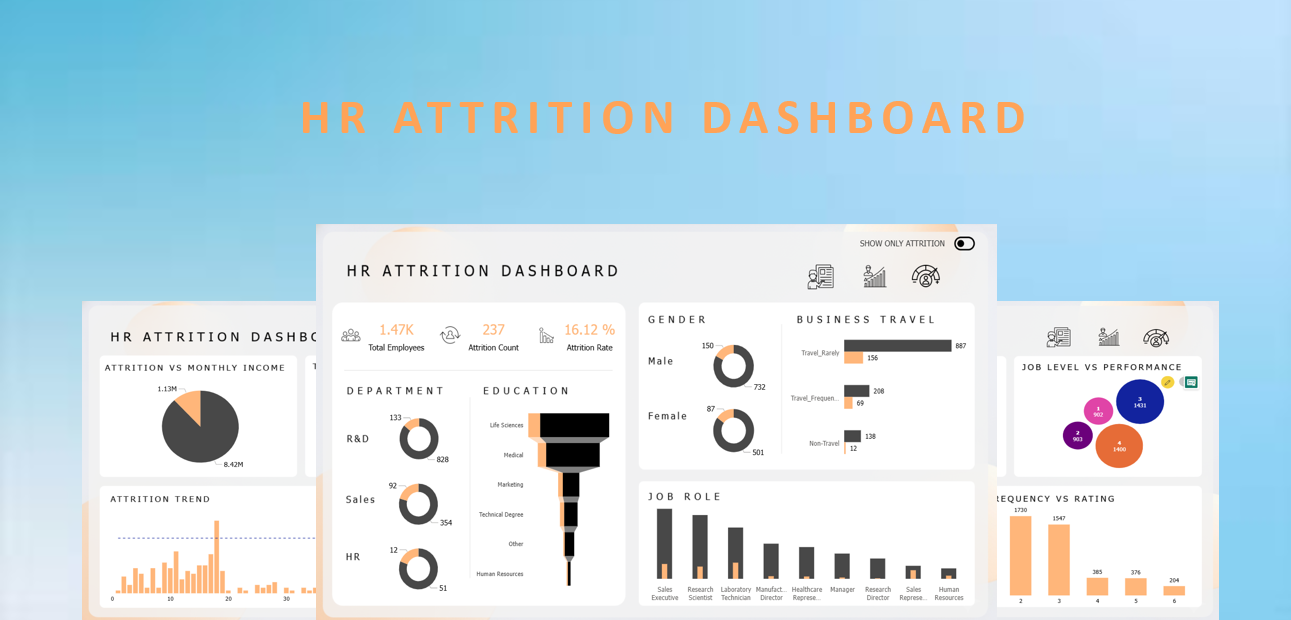

Layout of this report page (visuals, bound fields, positions):
{"tool":"powerbi","page":{"name":"Employee Overview","canvas":[1280,720],"ordinal":0},"visuals":[{"type":"cardVisual","title":"Employee Count","fields":{"Data":["All Measure.Total Employees"]},"box":[32.6,144.8,164.1,111],"z":0},{"type":"donutChart","title":"Human Resources","fields":{"Y":["Count(Data.EmployeeNumber)"],"Category":["Data.Attrition Status"]},"box":[129.1,323.3,135.1,114.6],"z":1000},{"type":"donutChart","title":"Research & Development","fields":{"Y":["CountNonNull(Data.EmployeeNumber)"],"Category":["Data.Attrition Status"]},"box":[129.1,437.9,135.1,114.6],"z":2000},{"type":"donutChart","title":"Sales","fields":{"Y":["CountNonNull(Data.EmployeeNumber)"],"Category":["Data.Attrition Status"]},"box":[129.1,552.5,135.1,114.6],"z":3000},{"type":"donutChart","title":"Female","fields":{"Category":["Data.Attrition Status"],"Y":["CountNonNull(Data.Gender)"]},"box":[710.6,197.9,154.4,114.6],"z":4000},{"type":"donutChart","title":"Male","fields":{"Category":["Data.Attrition Status"],"Y":["CountNonNull(Data.Gender)"]},"box":[710.6,312.5,154.4,113.4],"z":5000},{"type":"clusteredBarChart","title":"Education vs Attrition","fields":{"Y":["CountNonNull(Data.Attrition Status)"],"Category":["Data.EducationField"],"Series":["Data.Attrition Status"]},"box":[298,302.8,277.5,381.2],"z":6000},{"type":"clusteredBarChart","title":"Business Travel vs Attrition","fields":{"Category":["Data.BusinessTravel"],"Series":["Data.Attrition Status"],"Y":["CountNonNull(Data.EmployeeNumber)"]},"box":[873.5,152,351.1,301.6],"z":7000},{"type":"columnChart","title":"Job Role-wise Retention and Attrition","fields":{"Category":["Data.JobRole"],"Y":["CountNonNull(Data.EmployeeNumber)"],"Series":["Data.Attrition Status"]},"box":[587.5,469.3,657.5,207.5],"z":8000}]}

Visuals, with their boxes on the page's 1280x720 design canvas (x1, y1, x2, y2). These are canvas units, not pixel positions in the 1291x620 screenshot, which may show the page scaled, cropped or inside an application window:
"Employee Count" cardVisual: left=33, top=145, right=197, bottom=256
"Human Resources" donutChart: left=129, top=323, right=264, bottom=438
"Research & Development" donutChart: left=129, top=438, right=264, bottom=552
"Sales" donutChart: left=129, top=552, right=264, bottom=667
"Female" donutChart: left=711, top=198, right=865, bottom=312
"Male" donutChart: left=711, top=312, right=865, bottom=426
"Education vs Attrition" clusteredBarChart: left=298, top=303, right=576, bottom=684
"Business Travel vs Attrition" clusteredBarChart: left=874, top=152, right=1225, bottom=454
"Job Role-wise Retention and Attrition" columnChart: left=588, top=469, right=1245, bottom=677
